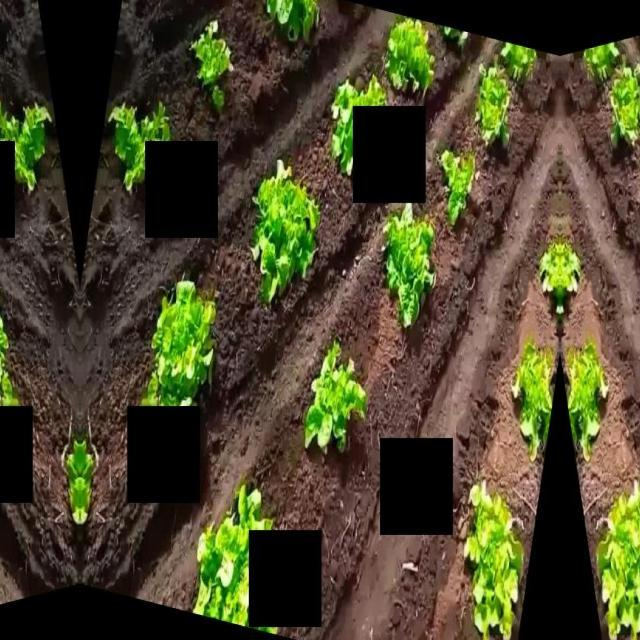healthy: (194, 488, 280, 638), (250, 157, 318, 305), (464, 478, 526, 640), (151, 277, 219, 409), (593, 478, 640, 640), (300, 342, 366, 456), (382, 202, 436, 326), (106, 98, 174, 196), (329, 76, 386, 182), (0, 98, 53, 196), (510, 342, 554, 456), (566, 342, 610, 456), (384, 15, 436, 99), (193, 24, 237, 110), (472, 62, 512, 148), (264, 0, 326, 48), (608, 62, 640, 147), (442, 143, 474, 224), (502, 38, 540, 82), (580, 38, 618, 82), (80, 432, 94, 538), (66, 432, 80, 538), (542, 242, 560, 320), (560, 242, 578, 320), (0, 277, 9, 409)
